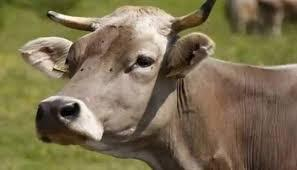cow: (17, 0, 297, 169), (223, 0, 297, 37)
